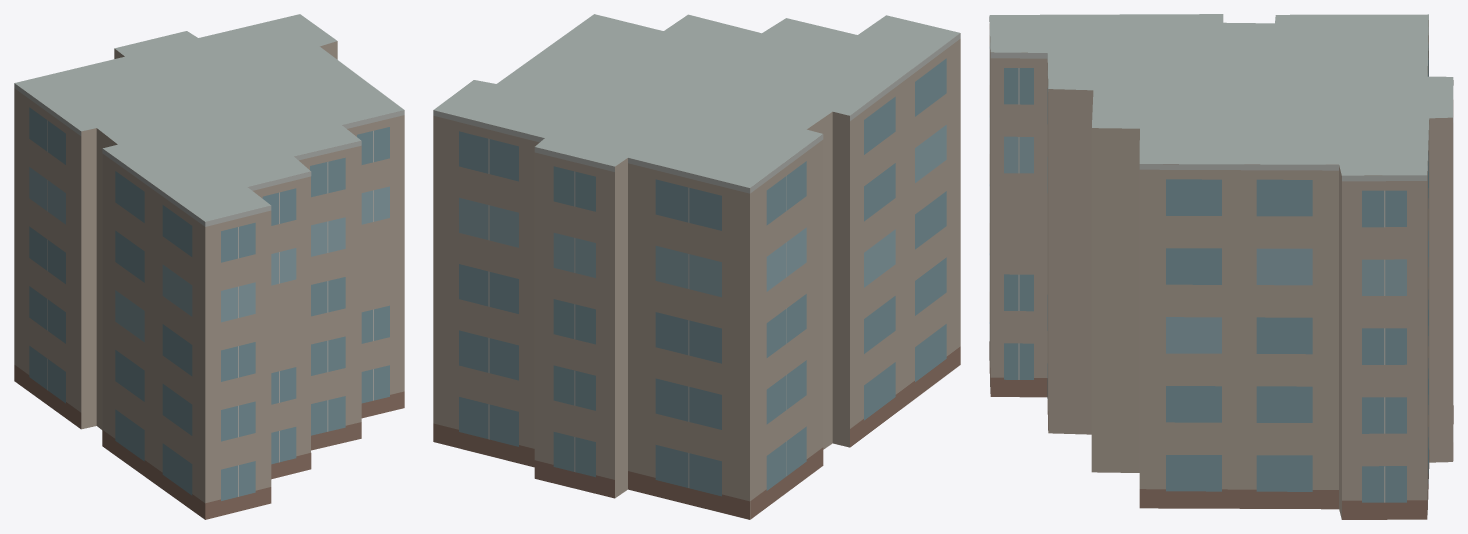
Rendered from survey-upis-32962425.glb.
3 renders of one model, left to right at view 1: azimuth 30°, elevation 25°; view 2: azimuth 150°, elevation 25°; view 3: azimuth 270°, elevation 25°, orthographic. The views are drawn at different scales.
Parts seen in each view (by area): view 1: survey-upis-32962425.tmp; view 2: survey-upis-32962425.tmp; view 3: survey-upis-32962425.tmp.
Boxes of the visible parts, x1,y1,x2,y2 form: survey-upis-32962425.tmp: (14,14,404,519); survey-upis-32962425.tmp: (433,14,960,519); survey-upis-32962425.tmp: (989,14,1453,519).
Bounding box in the file's own units: 14.65 × 14.55 × 17.77.
